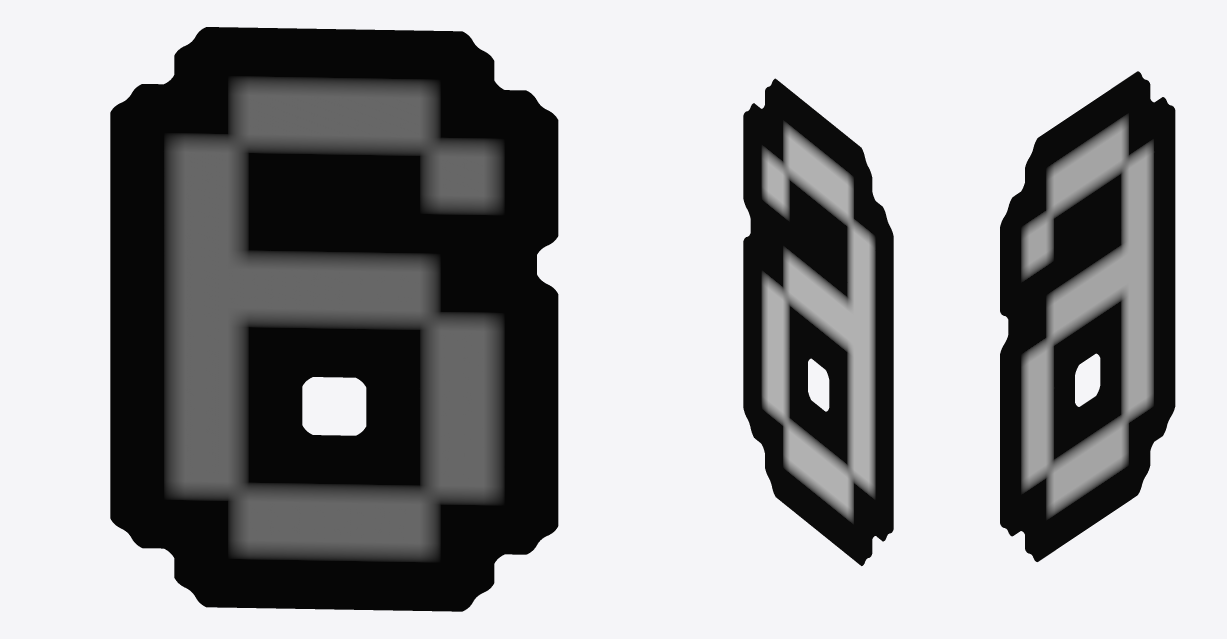
The picture shows the model from 3 angles, left to right: view 1: azimuth 30°, elevation 25°; view 2: azimuth 150°, elevation 25°; view 3: azimuth 270°, elevation 25°; orthographic projection. The views are drawn at different scales.
Parts seen in each view (by area): view 1: Joint_0_Object_0; view 2: Joint_0_Object_0; view 3: Joint_0_Object_0.
Part boxes in pixels (x1,y1,x2,y2): Joint_0_Object_0: (110,27,558,611); Joint_0_Object_0: (743,78,893,565); Joint_0_Object_0: (1000,71,1175,561).
Bounding box in the file's own units: 26.2 × 31 × 16.57.
1 material, 1 textured.
